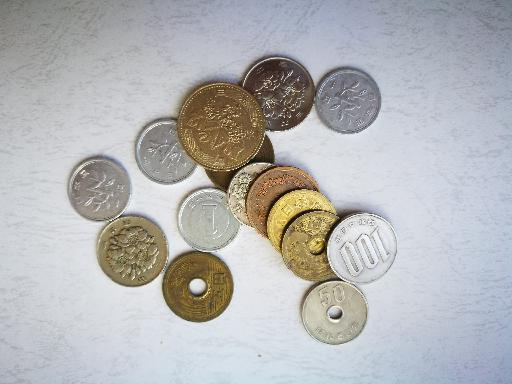100yen: (241, 57, 314, 131), (326, 213, 397, 284), (97, 216, 168, 286)
10yen: (247, 166, 322, 241)
1yen: (315, 66, 381, 133), (135, 117, 200, 184), (67, 156, 131, 222), (177, 186, 240, 251)
500yen: (178, 83, 265, 171)
50yen: (300, 280, 368, 345), (228, 162, 279, 230)
5yen: (162, 252, 234, 322), (280, 210, 342, 282)
